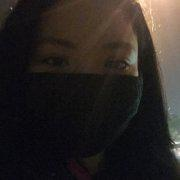OK: (24, 35, 144, 155)
